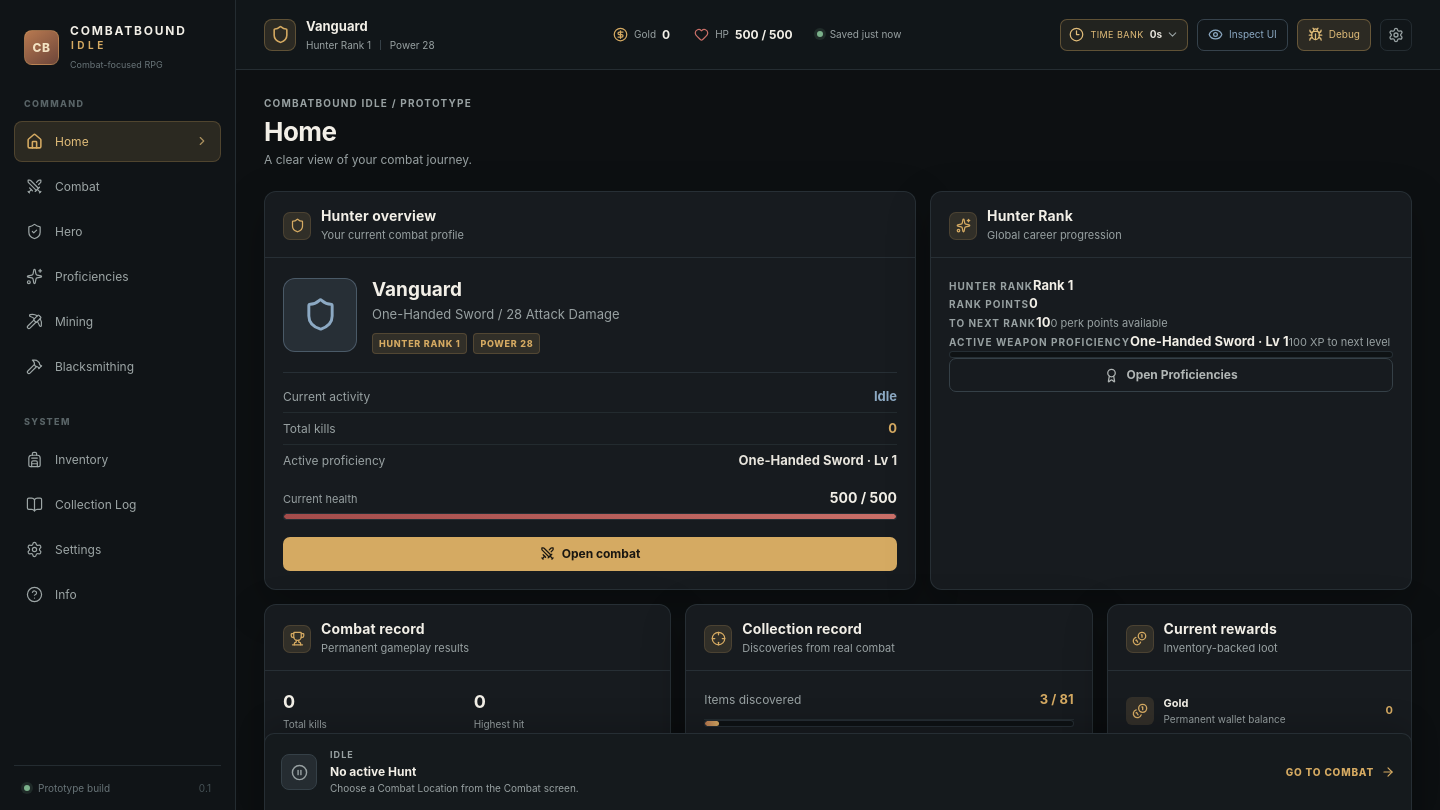
Test case: Hero Build Workspace V11 › renders inline canonical equipment, live stats, and exactly two build-system launchers
Click the button "Hero" at {"x": 118, "y": 232}, box [14,211,221,252]
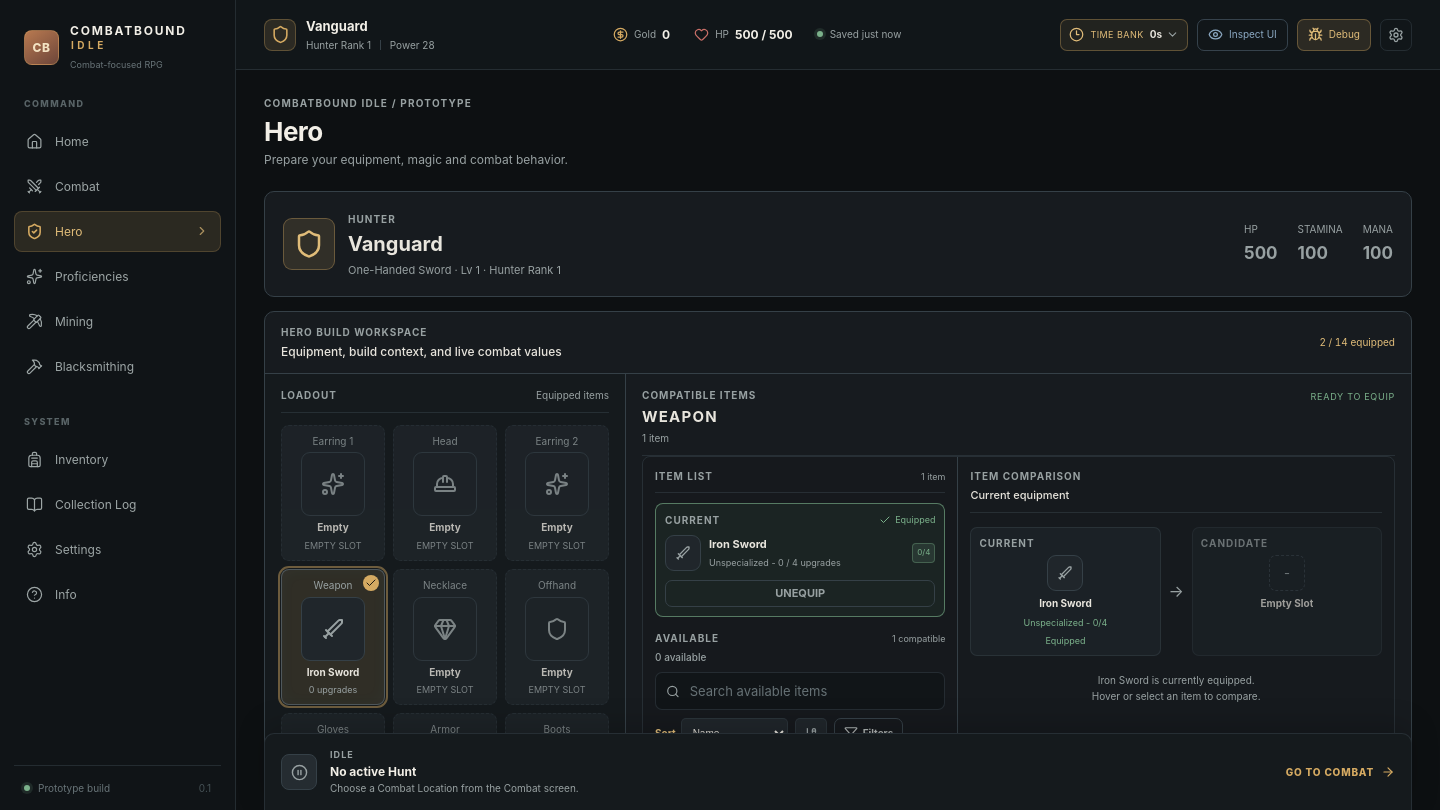
Now the element that starts with "COMPATIBLE ITEMS" is shown, box [642,388,1395,806]
